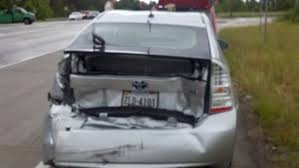Broken-glass: (46, 72, 73, 104)
Scratch: (100, 141, 147, 161)
Smashed: (51, 58, 205, 156)
